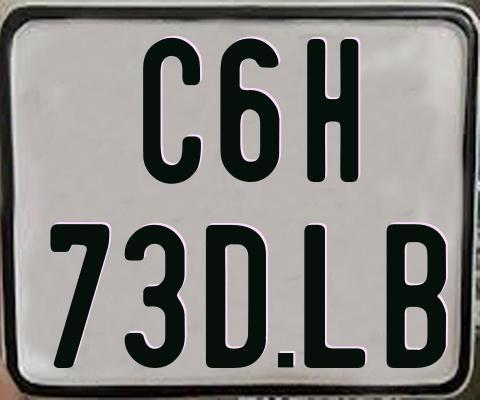3: (123, 225, 190, 368)
6: (220, 36, 283, 186)
7: (48, 222, 110, 368)
B: (385, 224, 447, 372)
C: (140, 38, 198, 186)
D: (203, 223, 269, 371)
H: (307, 38, 364, 187)
L: (303, 222, 365, 367)
